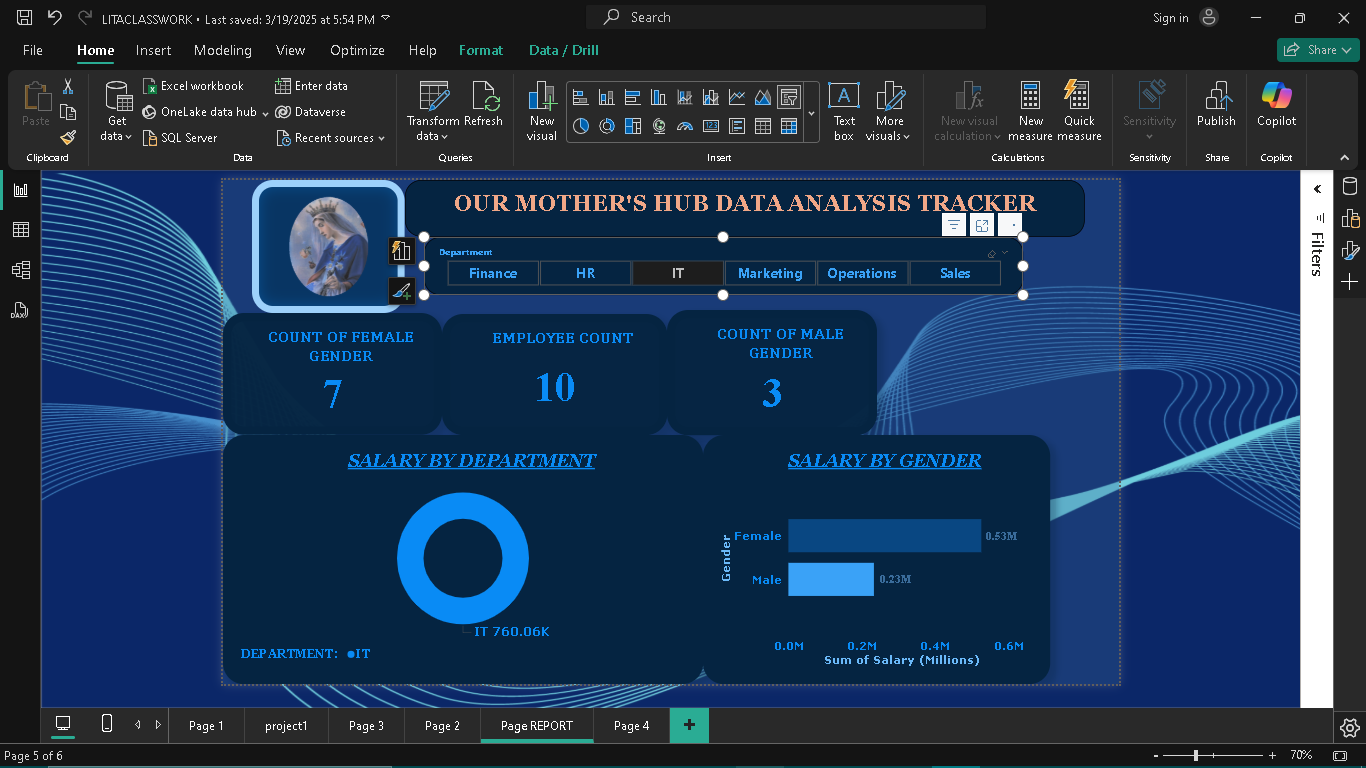

Layout of this report page (visuals, bound fields, positions):
{"tool":"powerbi","page":{"name":"Page REPORT","canvas":[1280,720],"ordinal":0},"visuals":[{"type":"card","title":"EMPLOYEE COUNT","fields":{"Values":["HR_Employee_Data.Measure 2"]},"box":[312.9,190,321.4,174.3],"z":0},{"type":"card","title":" COUNT OF MALE GENDER","fields":{"Values":["Count(HR_Employee_Data)"]},"box":[634.3,185.7,300,178.6],"z":1000},{"type":"card","title":" COUNT OF FEMALE GENDER","fields":{"Values":["Count(HR_Employee_Data)"]},"box":[0,190,312.9,174.3],"z":2000},{"type":"textbox","box":[260,0,971.4,81.4],"z":3000},{"type":"image","box":[41.7,0,218.3,190],"z":4000},{"type":"donutChart","title":"SALARY BY DEPARTMENT","fields":{"Y":["Sum(HR_Employee_Data.Salary)"],"Category":["HR_Employee_Data.Department"]},"box":[0,364.3,685.7,355.7],"z":5000},{"type":"clusteredBarChart","title":"SALARY BY GENDER","fields":{"Y":["Sum(HR_Employee_Data.Salary)"],"Category":["HR_Employee_Data.Gender"]},"box":[685.7,364.3,495.7,355.7],"z":6000},{"type":"slicer","fields":{"Values":["HR_Employee_Data.Department"]},"box":[287.1,81.4,855.7,82.9],"z":7000}]}

Visuals, with their boxes on the page's 1280x720 design canvas (x1, y1, x2, y2). These are canvas units, not pixel positions in the 1366x768 screenshot, which may show the page scaled, cropped or inside an application window:
"EMPLOYEE COUNT" card: <bbox>313, 190, 634, 364</bbox>
" COUNT OF MALE GENDER" card: <bbox>634, 186, 934, 364</bbox>
" COUNT OF FEMALE GENDER" card: <bbox>0, 190, 313, 364</bbox>
textbox: <bbox>260, 0, 1231, 81</bbox>
image: <bbox>42, 0, 260, 190</bbox>
"SALARY BY DEPARTMENT" donutChart: <bbox>0, 364, 686, 720</bbox>
"SALARY BY GENDER" clusteredBarChart: <bbox>686, 364, 1181, 720</bbox>
slicer - HR_Employee_Data.Department: <bbox>287, 81, 1143, 164</bbox>
